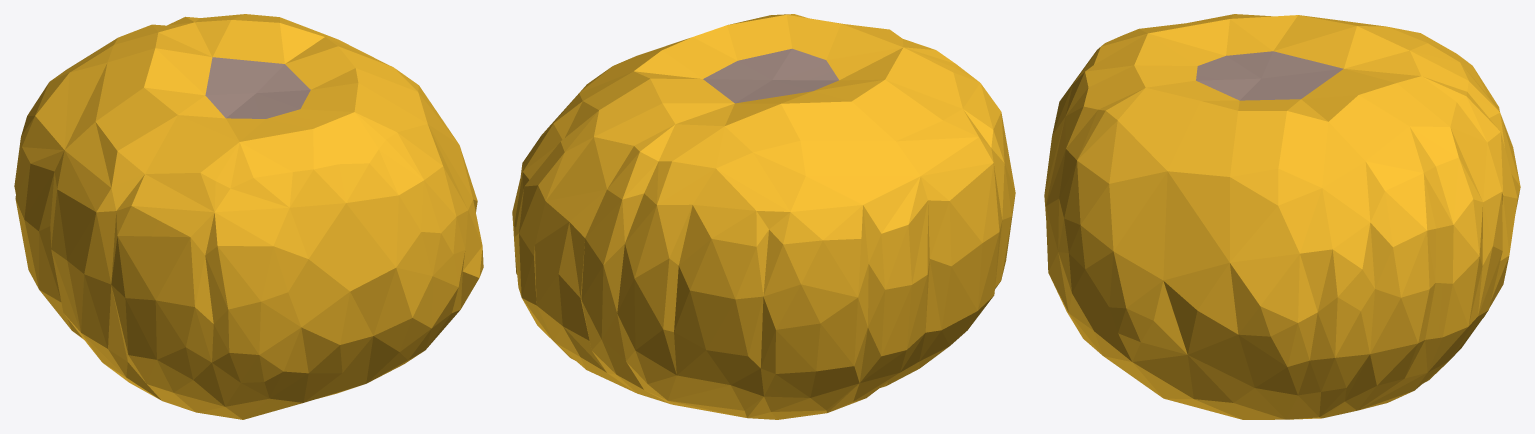
The model's file is fantasy_plant_024.fbx.
3 views of the same model, side by side, from view 1: azimuth 30°, elevation 25°; view 2: azimuth 150°, elevation 25°; view 3: azimuth 270°, elevation 25° (orthographic). The views are drawn at different scales.
Visible parts, largest first — view 1: fantasy_plant.024; view 2: fantasy_plant.024; view 3: fantasy_plant.024.
Boxes of the visible parts, x1,y1,x2,y2 form: fantasy_plant.024: [14, 14, 483, 419]; fantasy_plant.024: [512, 14, 1015, 419]; fantasy_plant.024: [1044, 14, 1520, 419].
Bounding box in the file's own units: 129 × 95.06 × 128.
Materials: 1 (1 with a texture image).
